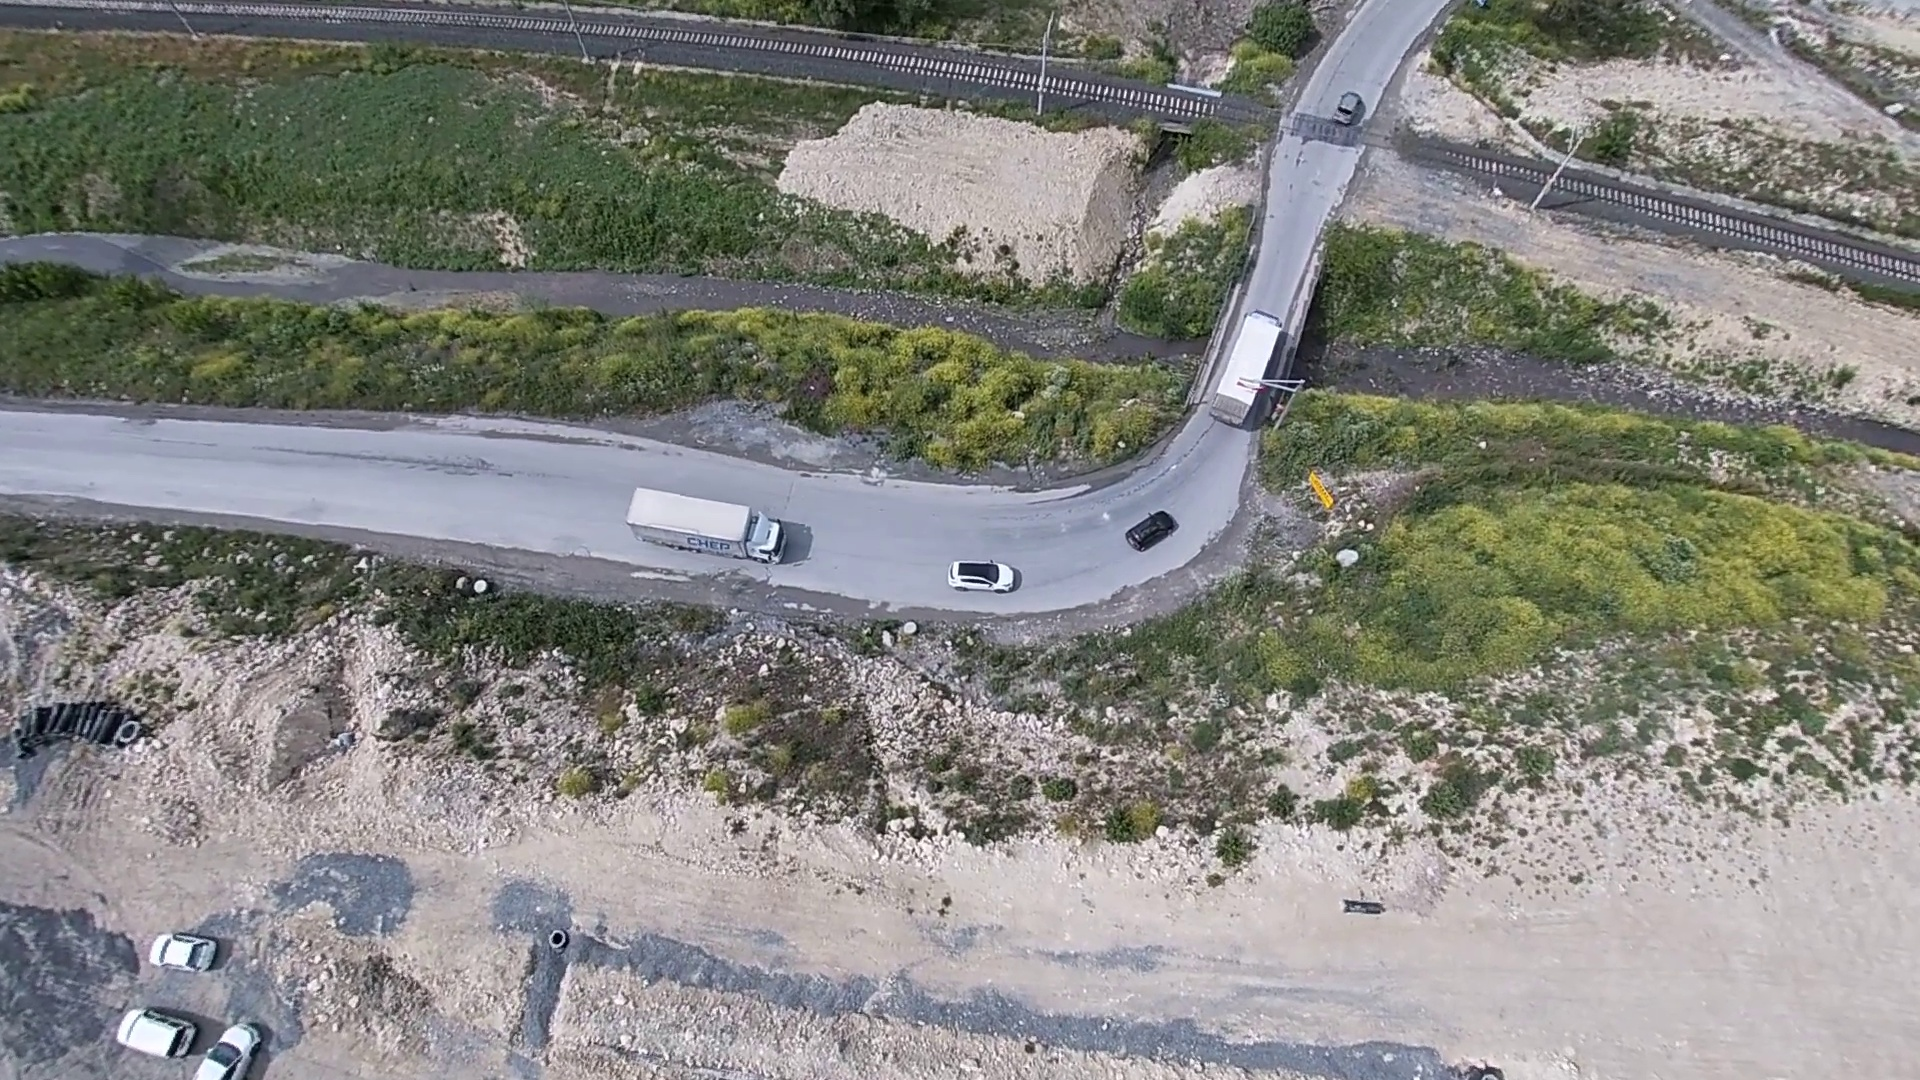araba: (182, 1022, 265, 1080), (945, 551, 1025, 603), (111, 1006, 195, 1054), (152, 934, 225, 973), (1126, 509, 1182, 558), (1331, 88, 1375, 127)
kamyon: (624, 481, 790, 567), (1207, 305, 1284, 443)
